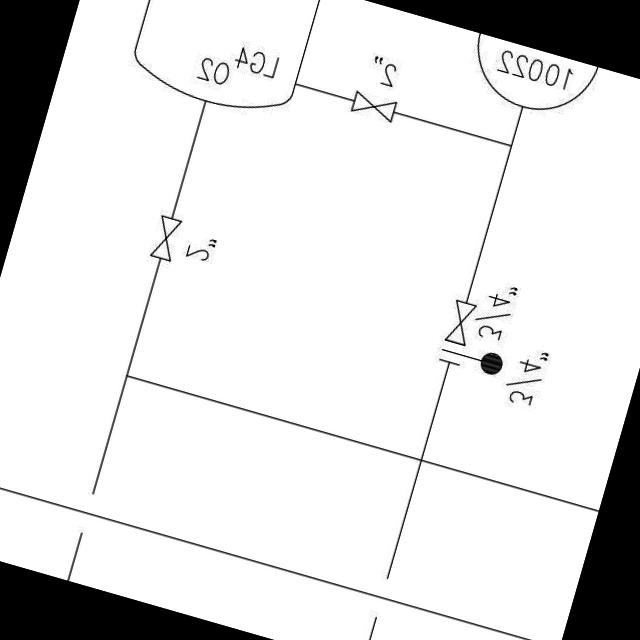GV: (142, 208, 186, 268), (439, 292, 483, 352), (343, 84, 403, 127)
